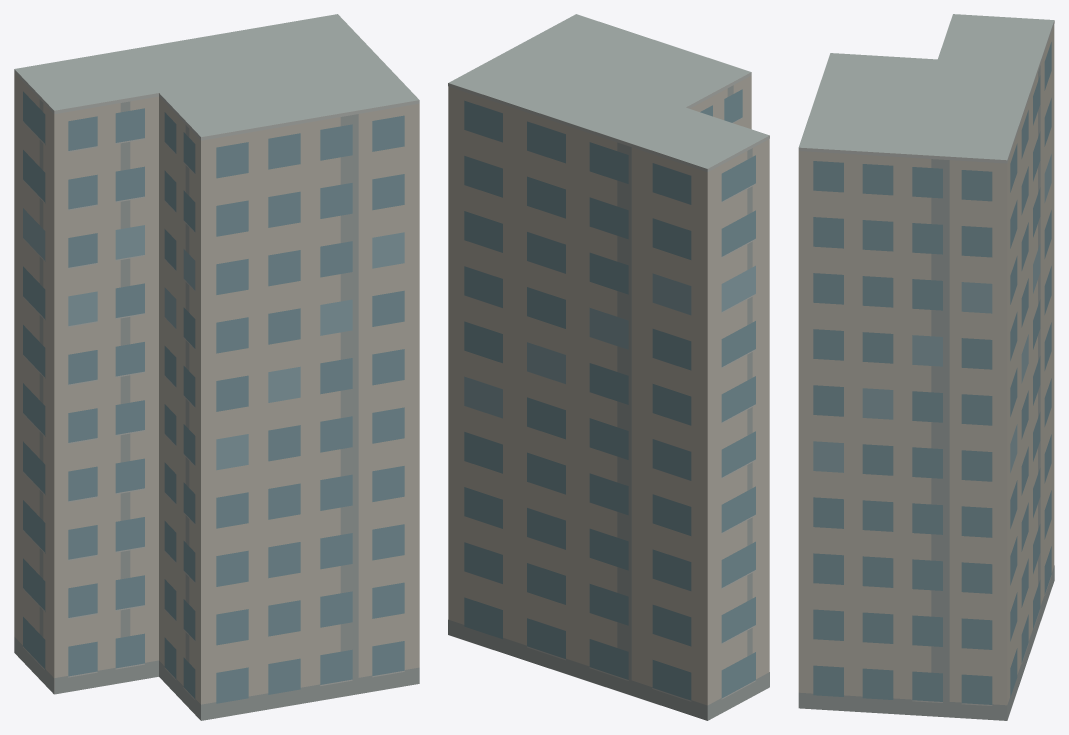
The model's file is residential-79e2d947-0dad-4b9d-9db2-f09807e5f67c.glb.
3 renders of one model, left to right at view 1: azimuth 30°, elevation 25°; view 2: azimuth 150°, elevation 25°; view 3: azimuth 270°, elevation 25°, orthographic. The views are drawn at different scales.
Visible parts, largest first — view 1: residential-79e2d947-0dad-4b9d-9db2-f09807e5f67c.tmp; view 2: residential-79e2d947-0dad-4b9d-9db2-f09807e5f67c.tmp; view 3: residential-79e2d947-0dad-4b9d-9db2-f09807e5f67c.tmp.
Boxes of the visible parts, <box> form: residential-79e2d947-0dad-4b9d-9db2-f09807e5f67c.tmp: <box>14,14,419,720</box>; residential-79e2d947-0dad-4b9d-9db2-f09807e5f67c.tmp: <box>448,14,769,720</box>; residential-79e2d947-0dad-4b9d-9db2-f09807e5f67c.tmp: <box>798,14,1054,720</box>.
Size of the model in its own units: 22.38 by 40 by 16.55.
